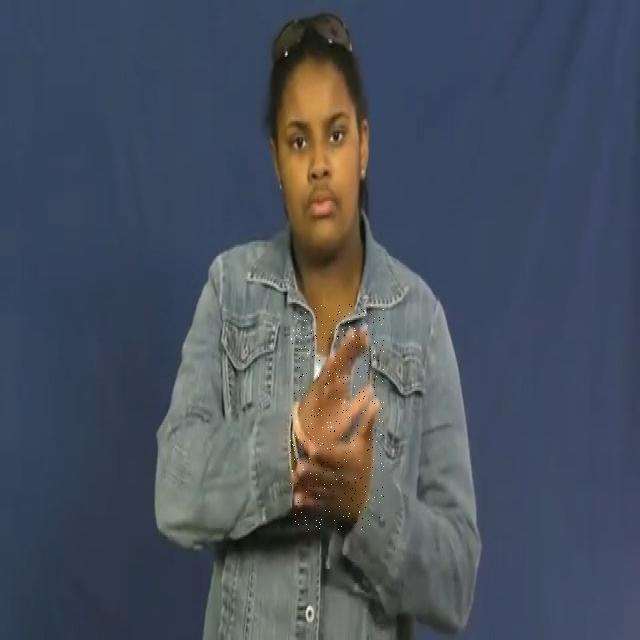tissues: (290, 304, 384, 530)
